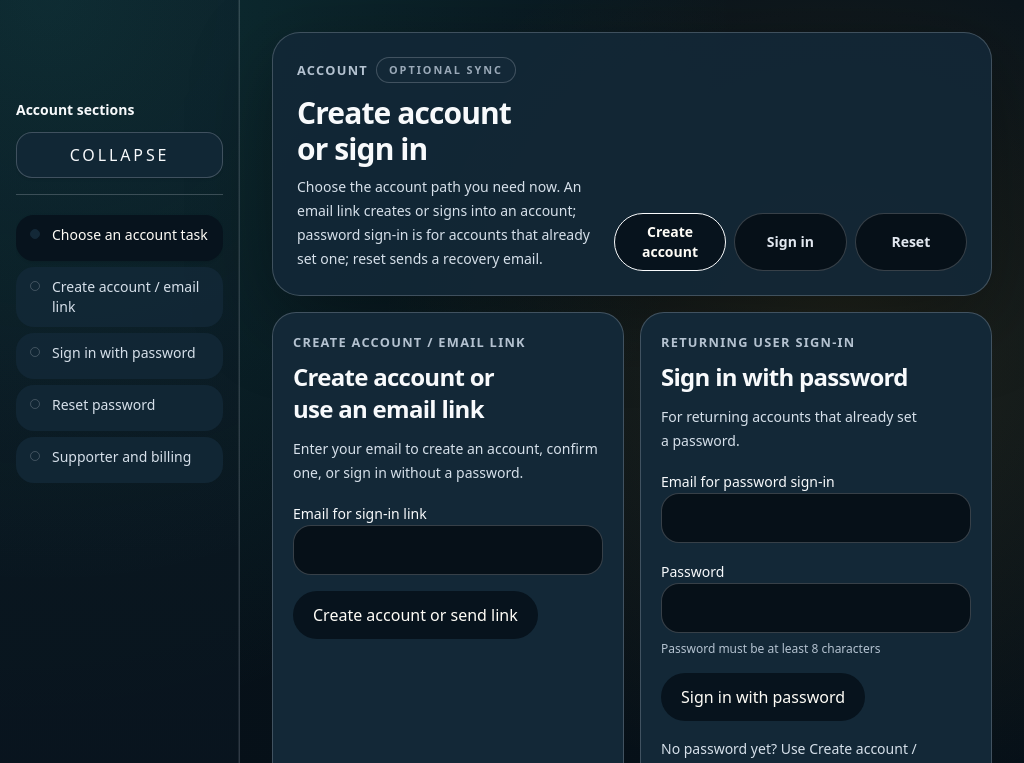
Test: AccountPagePanel › shows required-field feedback before password sign-in
The width and height of the screenshot is (1024, 763).
Click the button "Sign in with password". click: click(763, 696)
box: [661,672,865,720]
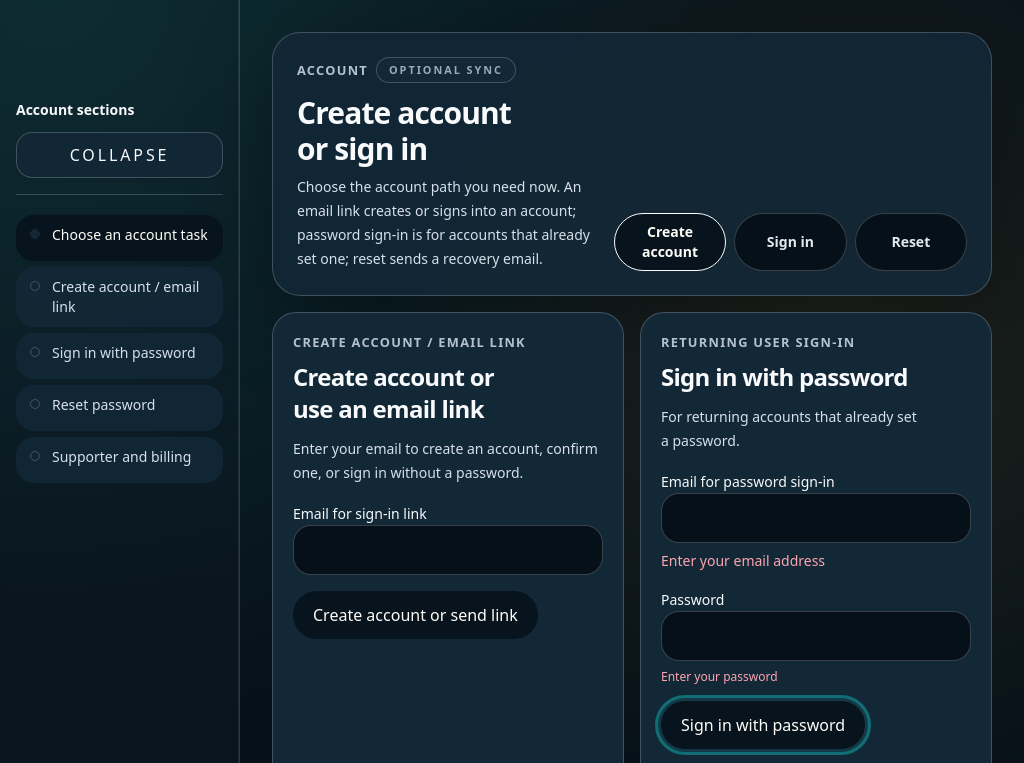
Check: the text "Enter your email address" is shown, box [661,550,825,570]
Check: the text "Enter your password" is shown, box [661,668,778,684]
